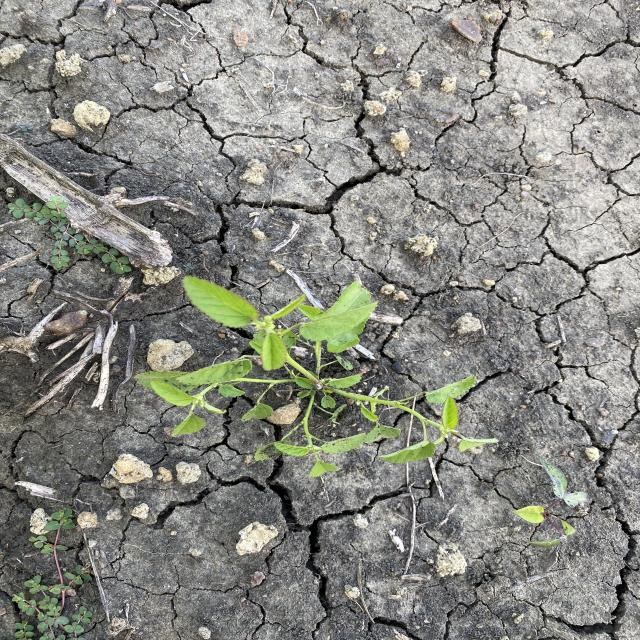MorningGlory: (507, 456, 594, 549)
PricklySida: (132, 273, 501, 479)
SpottedSpurge: (6, 505, 96, 637), (2, 198, 136, 276)
